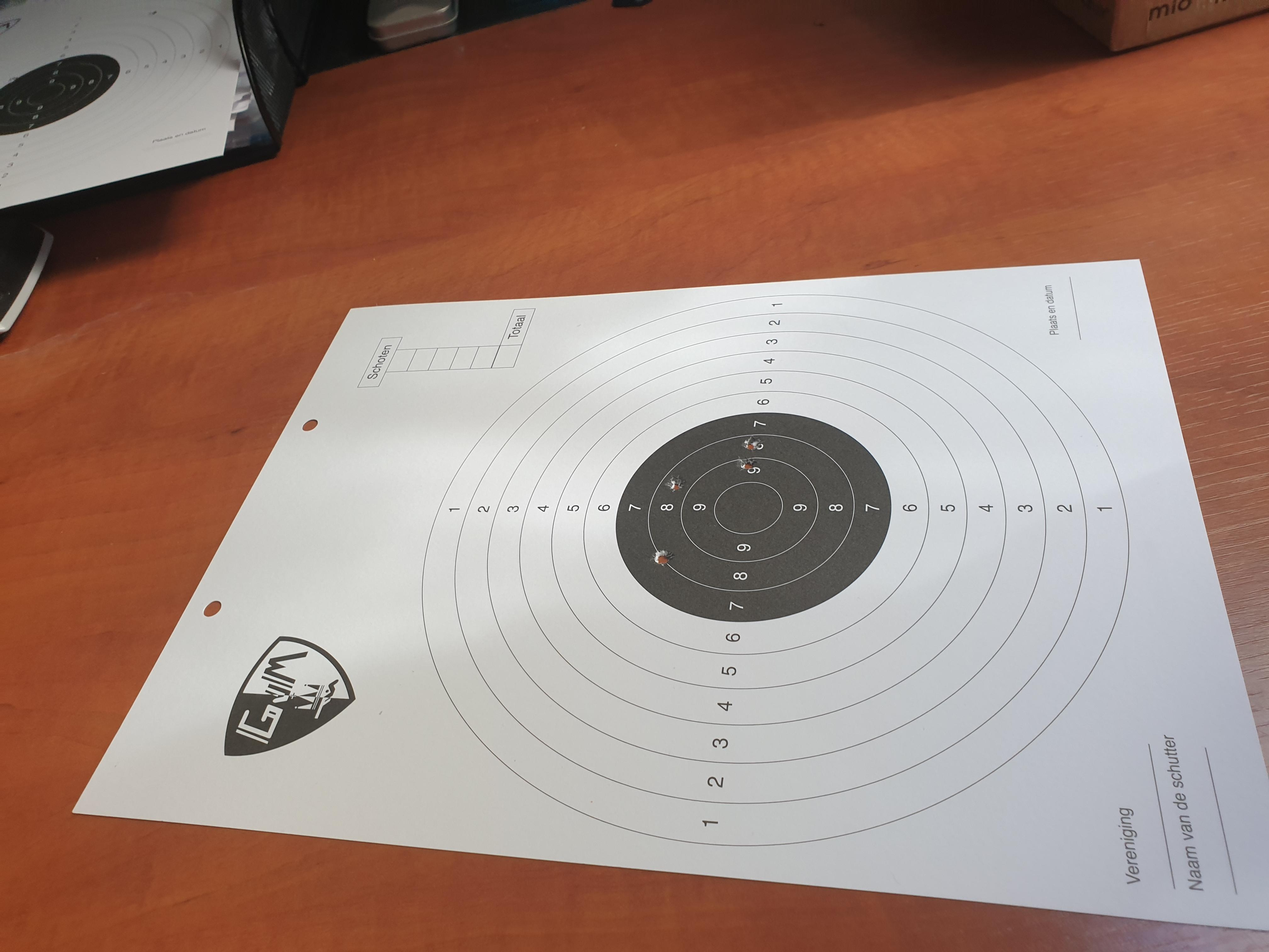hole: (663, 474, 687, 494), (650, 548, 673, 568), (741, 436, 766, 451), (736, 458, 758, 473)
